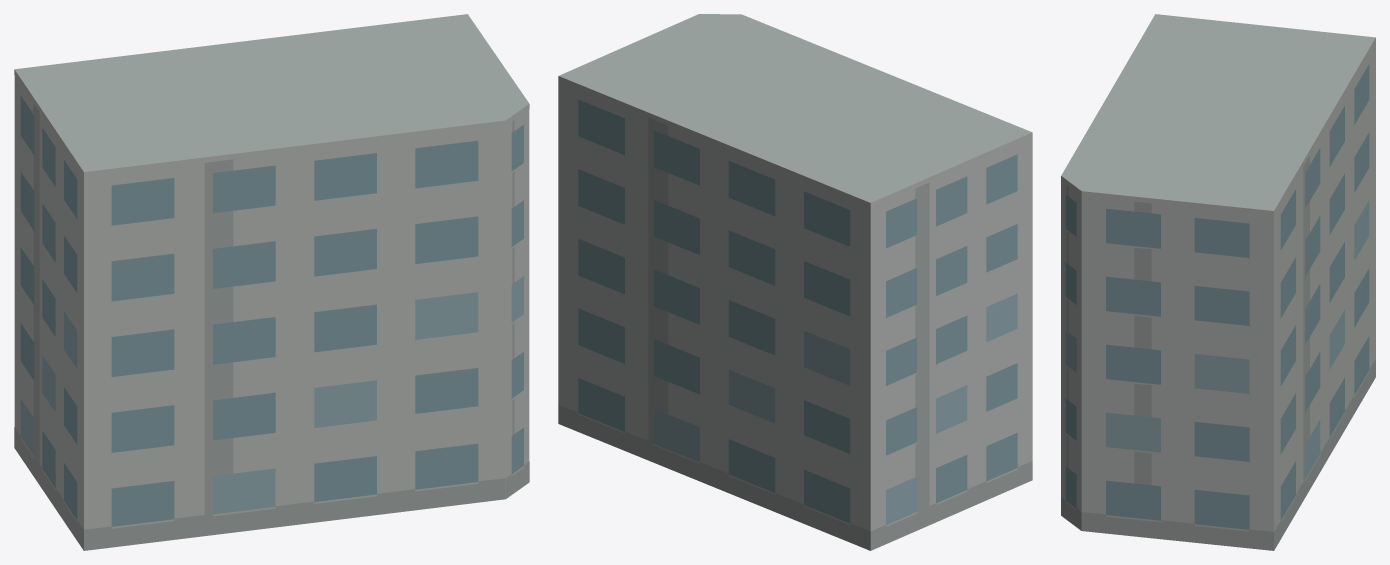
The model's file is survey-upis-32875317.glb.
3 views of the same model, side by side, from view 1: azimuth 30°, elevation 25°; view 2: azimuth 150°, elevation 25°; view 3: azimuth 270°, elevation 25° (orthographic). The views are drawn at different scales.
Parts seen in each view (by area): view 1: survey-upis-32875317.tmp; view 2: survey-upis-32875317.tmp; view 3: survey-upis-32875317.tmp.
Boxes of the visible parts, x1,y1,x2,y2 form: survey-upis-32875317.tmp: [14, 14, 529, 550]; survey-upis-32875317.tmp: [558, 14, 1032, 550]; survey-upis-32875317.tmp: [1061, 14, 1375, 550].
Bounding box in the file's own units: 20.9 × 16.8 × 14.11.
